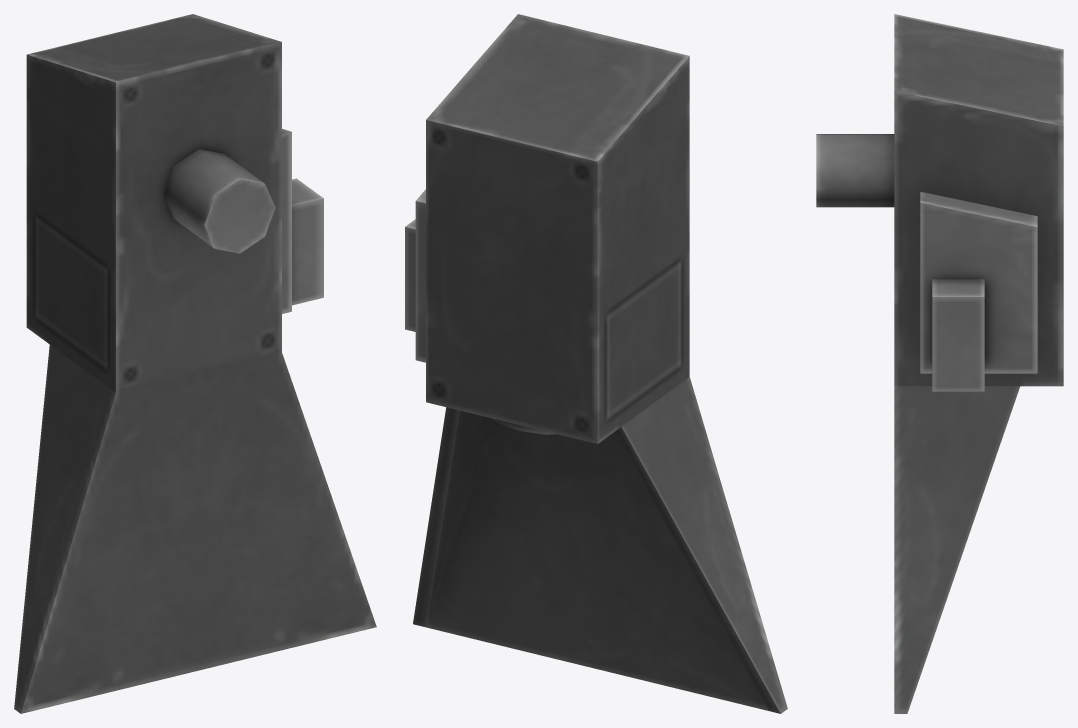
The model's file is naked.obj.
The picture shows the model from 3 angles, left to right: view 1: azimuth 30°, elevation 25°; view 2: azimuth 150°, elevation 25°; view 3: azimuth 270°, elevation 25°; orthographic projection. The views are drawn at different scales.
Parts seen in each view (by area): view 1: 2; view 2: 2; view 3: 2.
Boxes of the visible parts, box(x1,y1,x2,y2) form: 2: box(14, 14, 376, 713); 2: box(405, 14, 787, 713); 2: box(816, 14, 1063, 713).
Size of the model in its own units: 0.375 by 0.6125 by 0.2375.
1 material, 1 textured.
